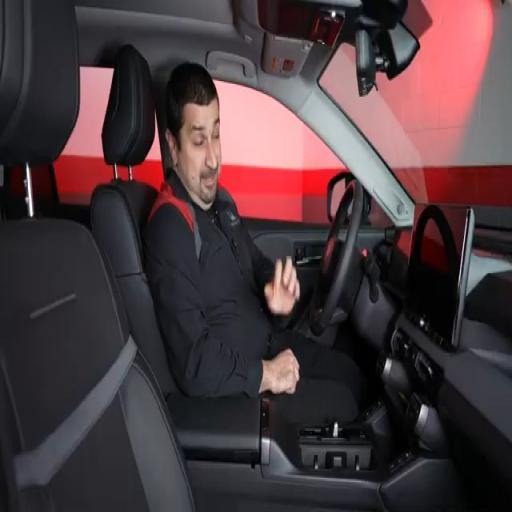side_mirror: (327, 171, 355, 223)
window: (216, 82, 346, 224)
windshield: (320, 0, 511, 206)
